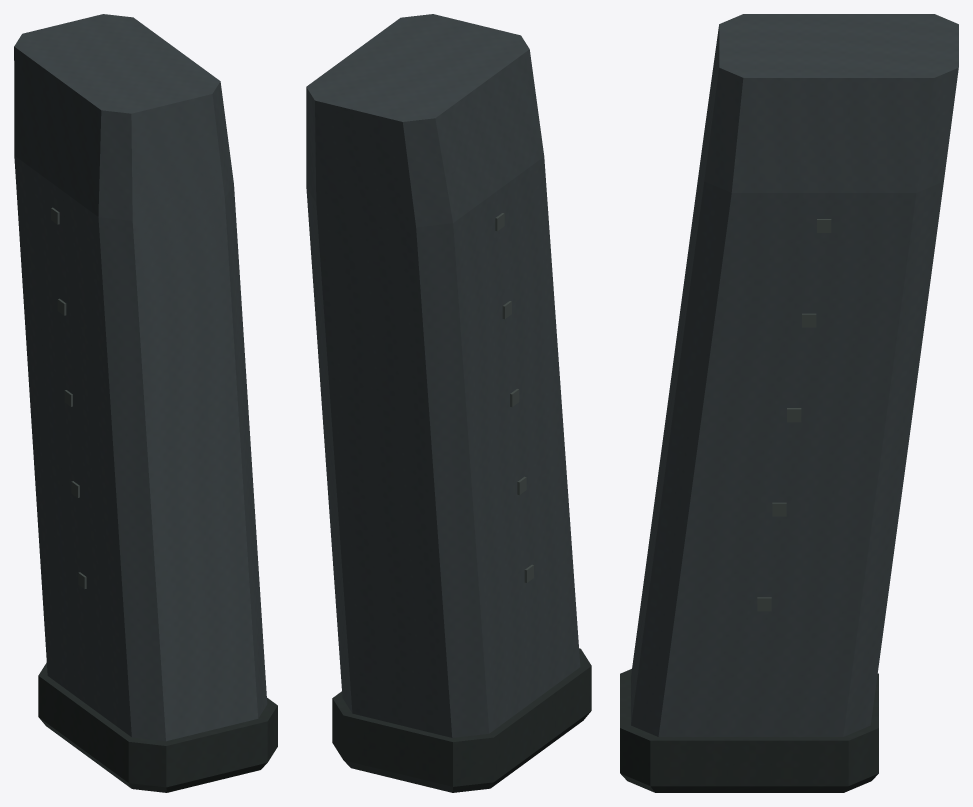
3 renders of one model, left to right at view 1: azimuth 30°, elevation 25°; view 2: azimuth 150°, elevation 25°; view 3: azimuth 270°, elevation 25°, orthographic. The views are drawn at different scales.
Parts seen in each view (by area): view 1: m9_17_individual_shell, m9_17_individual_shell.001, m9_17_floorplate, m9_17_witness_inset; view 2: m9_17_individual_shell, m9_17_individual_shell.001, m9_17_floorplate, m9_17_witness_inset; view 3: m9_17_individual_shell, m9_17_floorplate, m9_17_individual_shell.001, m9_17_witness_inset.
Part boxes in pixels (left/top/right/bottom): m9_17_individual_shell: left=14, top=14, right=267, bottom=741; m9_17_individual_shell.001: left=21, top=94, right=257, bottom=736; m9_17_floorplate: left=38, top=662, right=277, bottom=792; m9_17_witness_inset: left=51, top=207, right=86, bottom=588; m9_17_individual_shell: left=306, top=14, right=580, bottom=737; m9_17_individual_shell.001: left=314, top=101, right=579, bottom=737; m9_17_floorplate: left=332, top=648, right=591, bottom=792; m9_17_witness_inset: left=495, top=213, right=533, bottom=582; m9_17_individual_shell: left=631, top=14, right=958, bottom=736; m9_17_floorplate: left=620, top=669, right=878, bottom=792; m9_17_individual_shell.001: left=631, top=30, right=928, bottom=736; m9_17_witness_inset: left=757, top=219, right=831, bottom=611.
Bounding box in the file's own units: 0.0528 × 0.219 × 0.0947.
3 materials, 2 textured.
